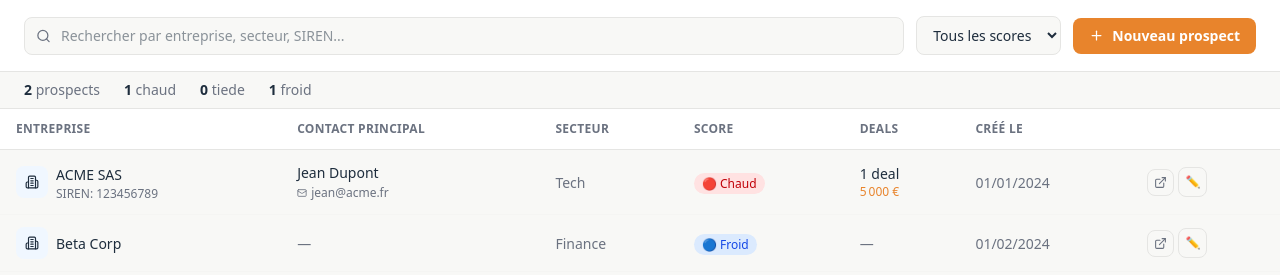
Test case: ProspectsClient › filters by score
Select "🔴 Chaud" in the dropdown showing "Tous les scores" at (989, 36), box x1=916 y1=16 x2=1061 y2=55
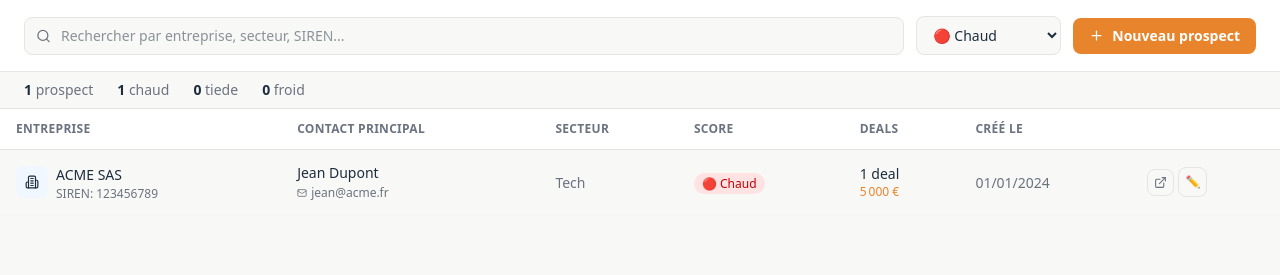
Check: the link "ACME SAS" is shown, box x1=56 y1=165 x2=122 y2=184
Check: the link "Beta Corp" is gone
